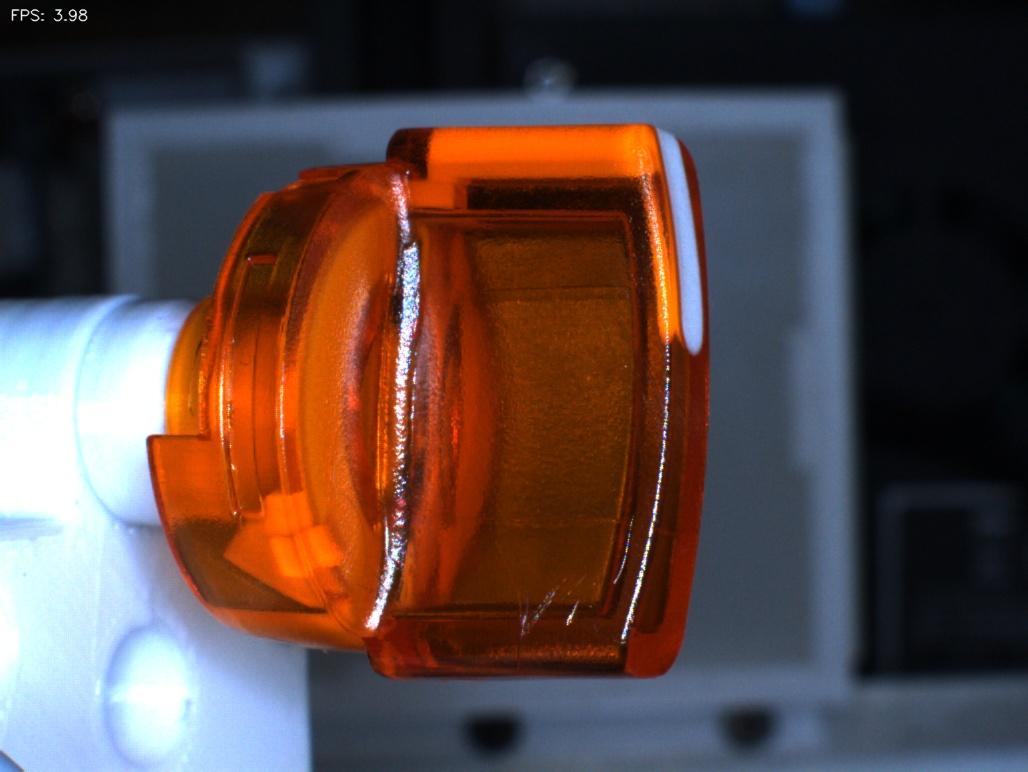Givrage: (496, 512, 611, 649)
